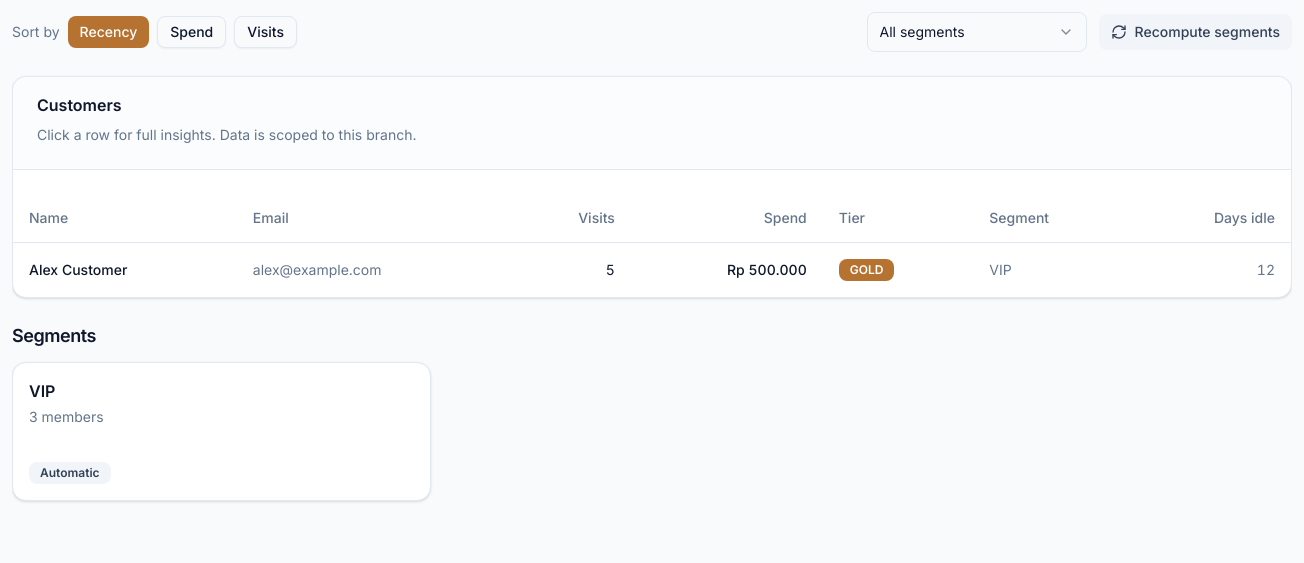
Test case: crm feature › runs recompute and shows summary text
expect the text "Alex Customer" is shown: met, box [13,242,237,296]
Click the button "Recompute segments": (1195, 32) [1099,14,1292,50]
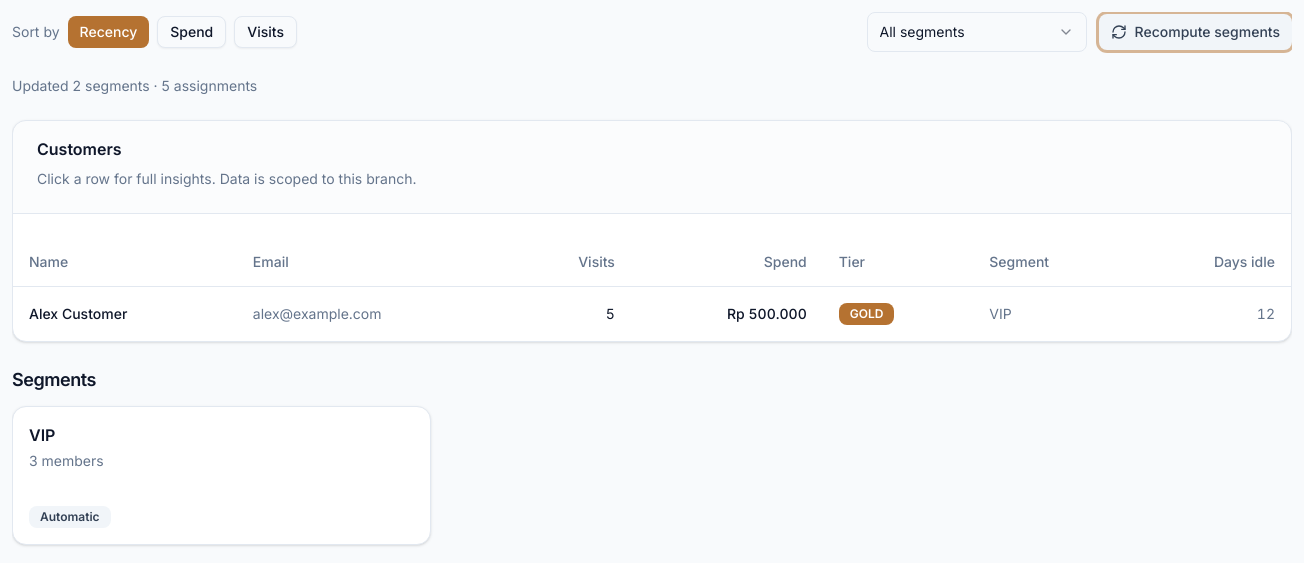
expect the text "Updated 2 segments · 5 assignments" is shown: met, box [12,77,257,94]
